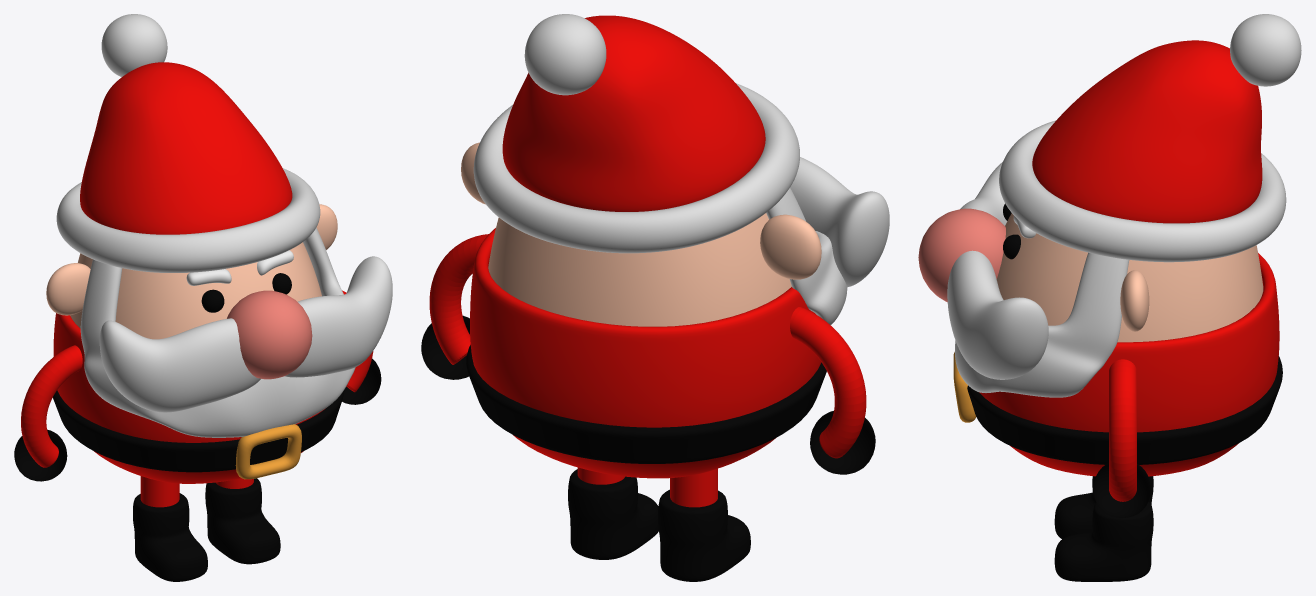
File: santa.fbx
The picture shows the model from 3 angles, left to right: view 1: azimuth 30°, elevation 25°; view 2: azimuth 150°, elevation 25°; view 3: azimuth 270°, elevation 25°; orthographic projection. The views are drawn at different scales.
Parts seen in each view (by area): view 1: Cube.003, Cube.009, Cube.010, Cube.002, Cube.004, Cube, Cube.012, Cube.001, Sphere, Cylinder.001, Cube.013, Cube.008 (+4 smaller); view 2: Cube.001, Cube.003, Cube, Cube.002, Cube.012, Cube.004, Cylinder.001, Cube.009, Cube.013, Cube.008, Cube.005, Cube.010 (+1 smaller); view 3: Cube.003, Cube.001, Cube, Cube.002, Cube.009, Cube.010, Cube.012, Cube.004, Sphere, Cube.013, Cylinder.001, Cube.005 (+2 smaller).
Part boxes in pixels (x1=…): Cube.003: x1=80, y1=62, x2=292, y2=234; Cube.009: x1=99, y1=256, x2=392, y2=412; Cube.010: x1=80, y1=227, x2=355, y2=437; Cube.002: x1=56, y1=168, x2=320, y2=272; Cube.004: x1=133, y1=478, x2=280, y2=581; Cube: x1=70, y1=242, x2=321, y2=339; Cube.012: x1=53, y1=390, x2=344, y2=472; Cube.001: x1=53, y1=313, x2=325, y2=483; Sphere: x1=227, y1=290, x2=312, y2=379; Cylinder.001: x1=21, y1=290, x2=373, y2=467; Cube.013: x1=101, y1=14, x2=167, y2=77; Cube.008: x1=46, y1=204, x2=337, y2=315; Cube.001: x1=470, y1=228, x2=821, y2=478; Cube.003: x1=502, y1=15, x2=765, y2=211; Cube: x1=488, y1=213, x2=791, y2=326; Cube.002: x1=473, y1=83, x2=799, y2=253; Cube.012: x1=466, y1=345, x2=826, y2=463; Cube.004: x1=568, y1=469, x2=750, y2=581; Cylinder.001: x1=429, y1=234, x2=866, y2=458; Cube.009: x1=790, y1=157, x2=889, y2=287; Cube.013: x1=524, y1=14, x2=606, y2=95; Cube.008: x1=461, y1=142, x2=821, y2=279; Cube.005: x1=421, y1=315, x2=875, y2=474; Cube.010: x1=766, y1=188, x2=847, y2=325; Cube.003: x1=1032, y1=40, x2=1262, y2=223; Cube.001: x1=979, y1=253, x2=1279, y2=476; Cube: x1=996, y1=213, x2=1263, y2=342; Cube.002: x1=999, y1=120, x2=1286, y2=262; Cube.009: x1=947, y1=162, x2=1048, y2=379; Cube.010: x1=955, y1=252, x2=1129, y2=397; Cube.012: x1=967, y1=356, x2=1282, y2=464; Cube.004: x1=1054, y1=476, x2=1153, y2=581; Sphere: x1=918, y1=208, x2=1005, y2=302; Cube.013: x1=1230, y1=14, x2=1301, y2=86; Cylinder.001: x1=1109, y1=359, x2=1136, y2=501; Cube.005: x1=1093, y1=463, x2=1150, y2=517.
Bounding box in the file's own units: 850 × 1101 × 711.
